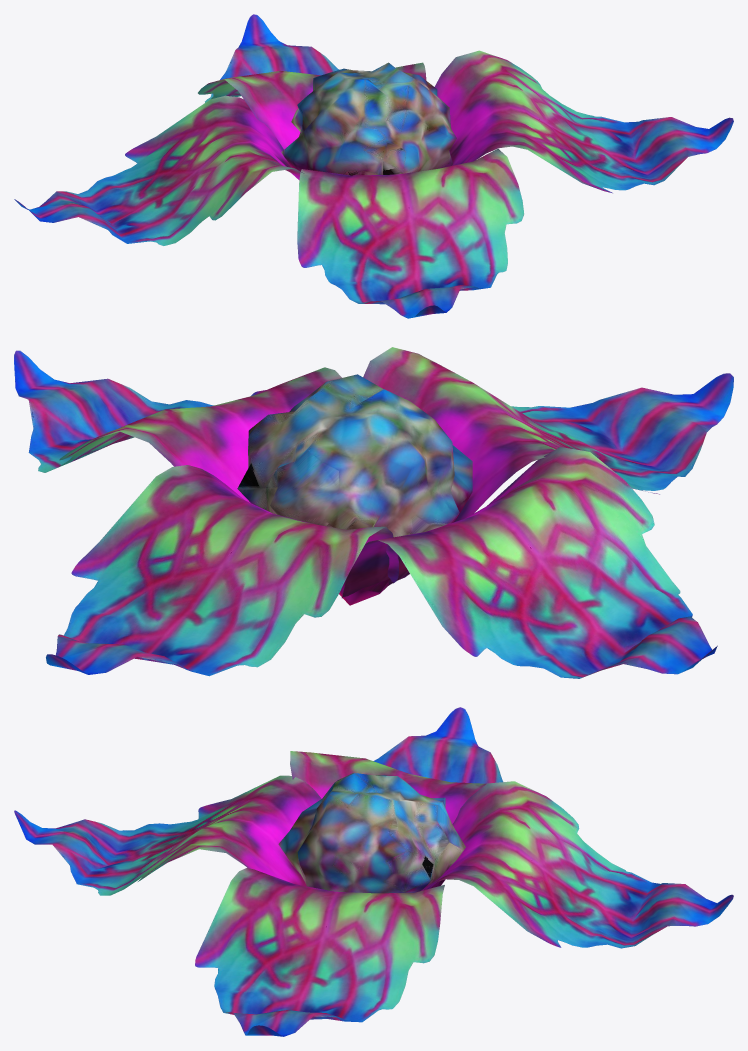
File: spaceFlower.fbx
3 views of the same model, one above another, from view 1: azimuth 30°, elevation 25°; view 2: azimuth 150°, elevation 25°; view 3: azimuth 270°, elevation 25° (orthographic). The views are drawn at different scales.
Parts seen in each view (by area): view 1: Vert.001; view 2: Vert.001; view 3: Vert.001.
Boxes of the visible parts, left/top/right/bottom form: Vert.001: left=14, top=14, right=733, bottom=318; Vert.001: left=14, top=347, right=733, bottom=678; Vert.001: left=14, top=707, right=733, bottom=1036.
Bounding box in the file's own units: 3607 × 3449 × 804.
Materials: 1 (1 with a texture image).
